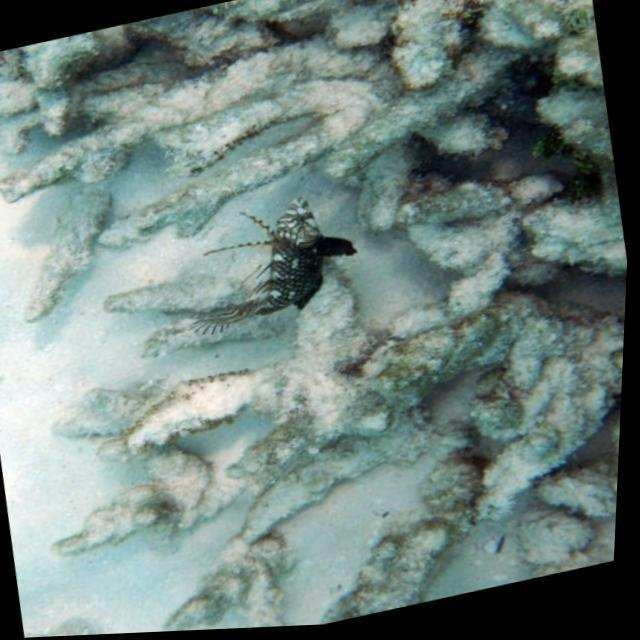Dead Coral: (15, 252, 630, 638), (0, 0, 618, 279)
